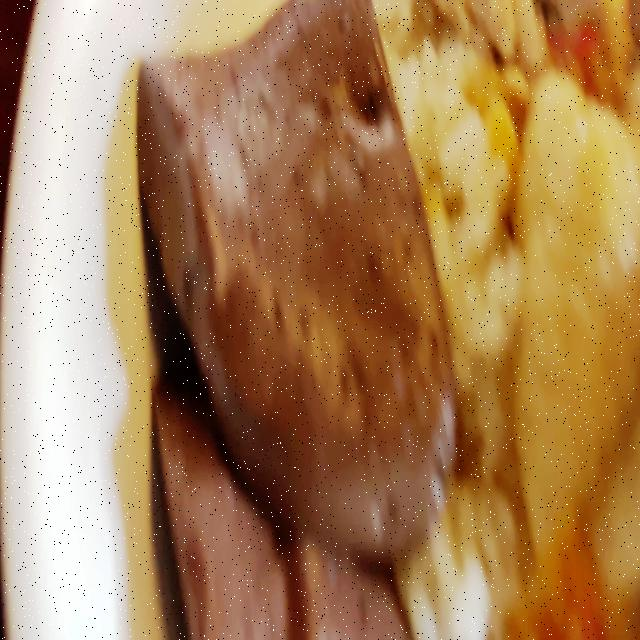boiled_chicken: (519, 4, 640, 620)
boiled_chicken_blood_jelly: (130, 0, 452, 538), (148, 358, 404, 640)
chicken_rice: (101, 0, 640, 640)
